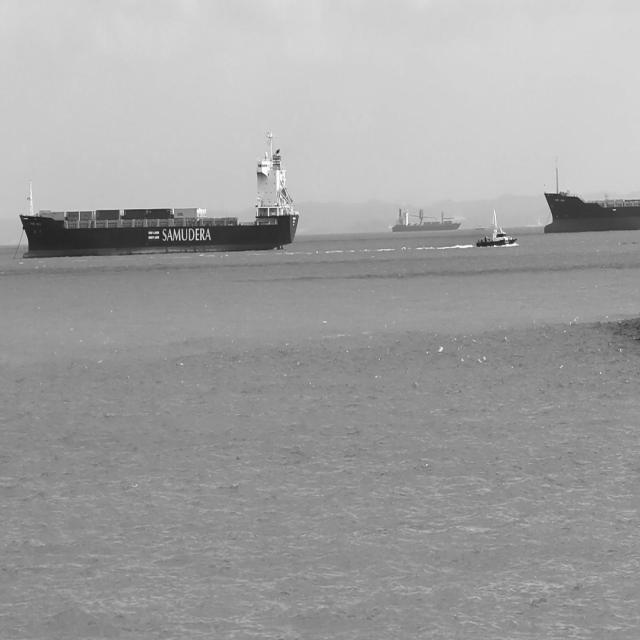boat: (490, 208, 498, 231)
ship: (19, 129, 299, 259), (544, 158, 639, 234), (391, 207, 462, 234), (475, 228, 518, 250), (476, 225, 485, 231)
